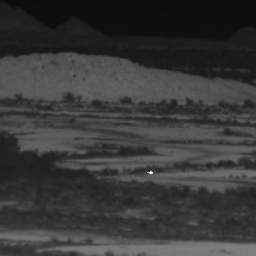Target: (146, 170, 154, 175)
